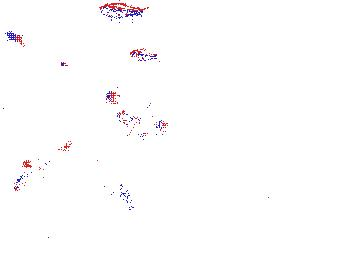X-ray fish: (144, 160, 167, 200), (257, 236, 287, 260)
red belly glassfish: (96, 1, 150, 25), (127, 45, 162, 66)
redtail glassfish: (113, 104, 169, 139)
